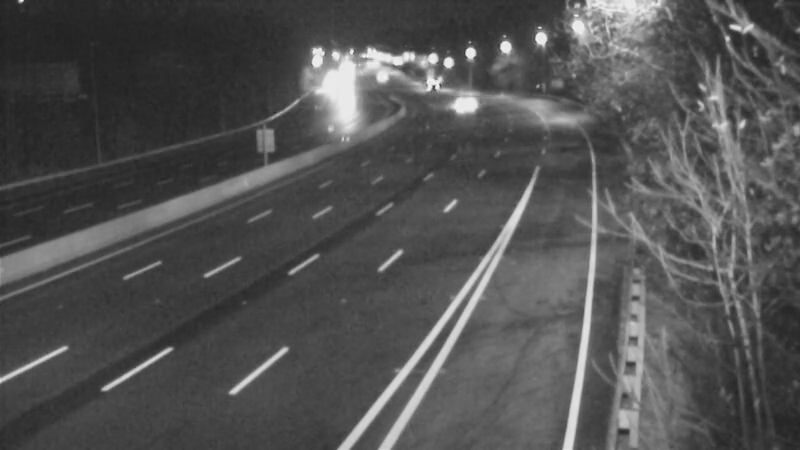vehicle: (358, 50, 408, 100), (401, 56, 451, 106), (445, 79, 495, 129), (322, 74, 372, 124)
